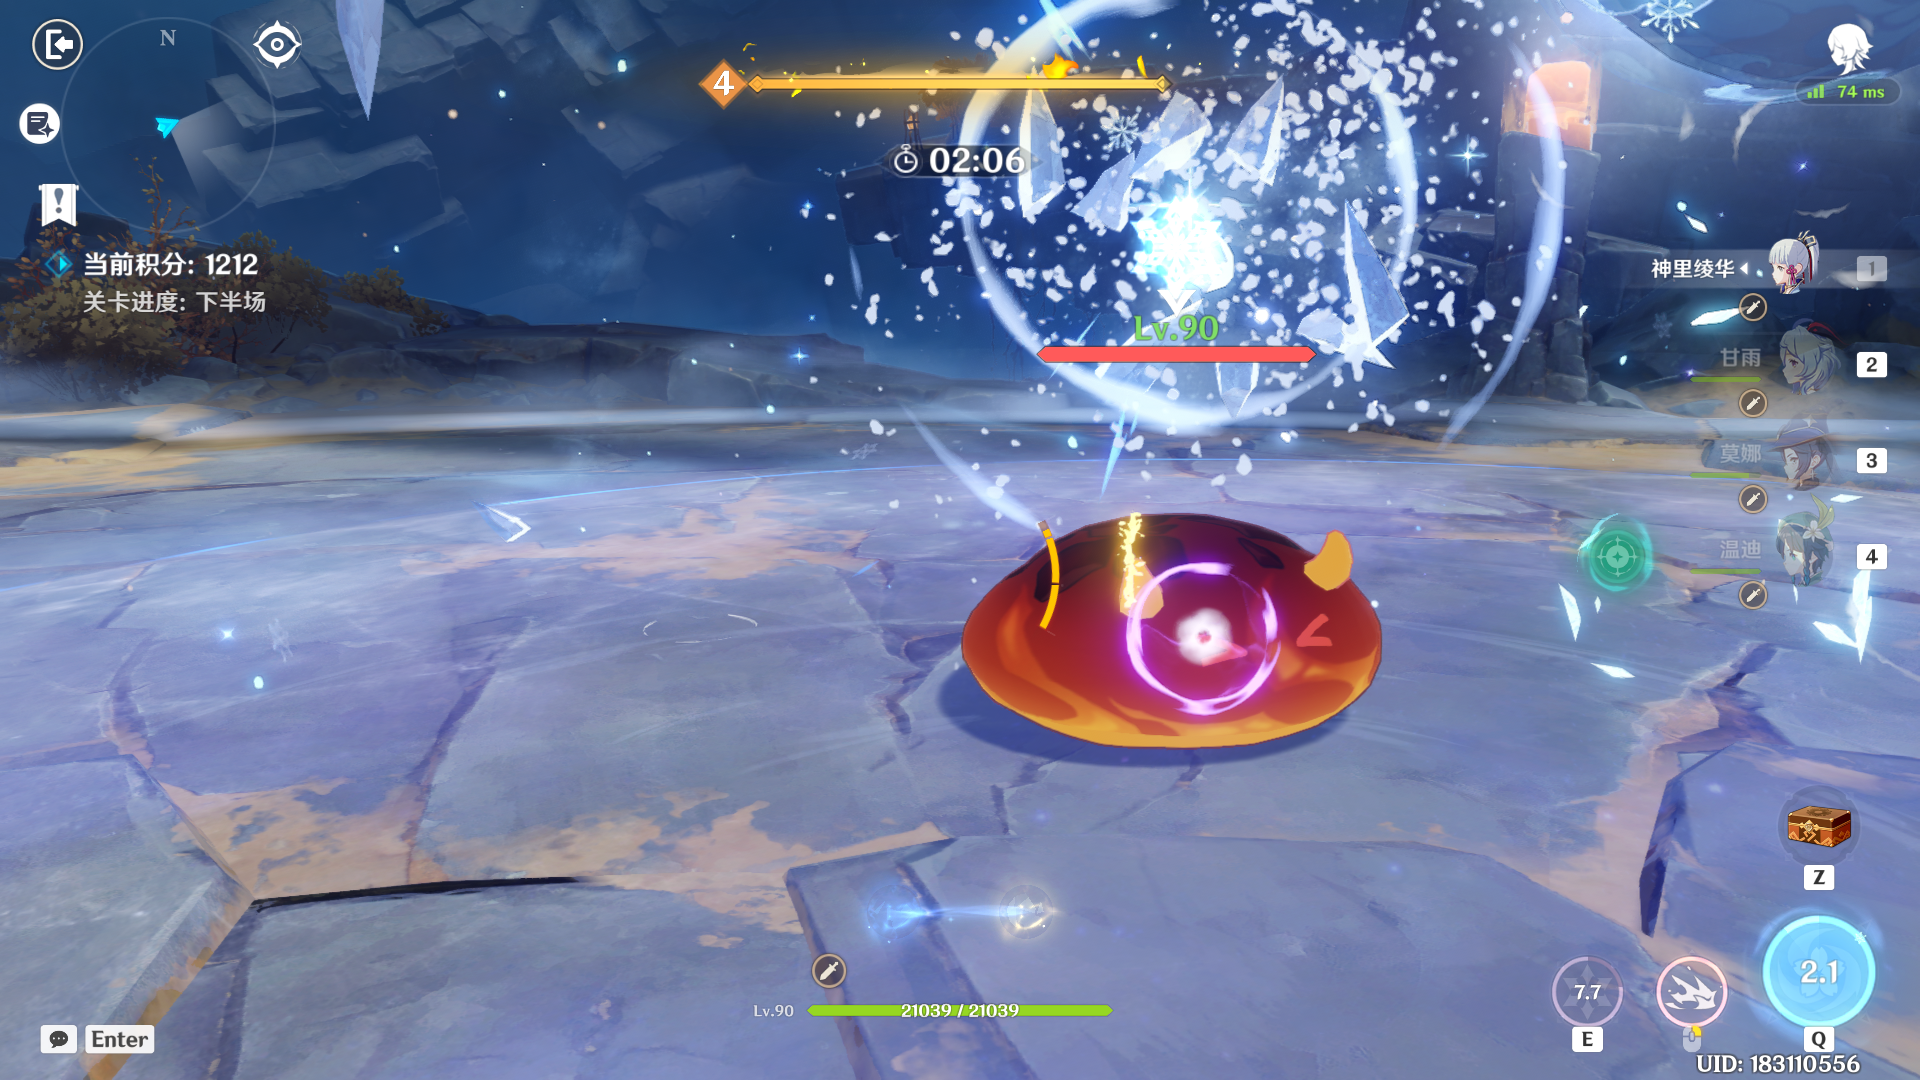slime: (894, 505, 1432, 778)
